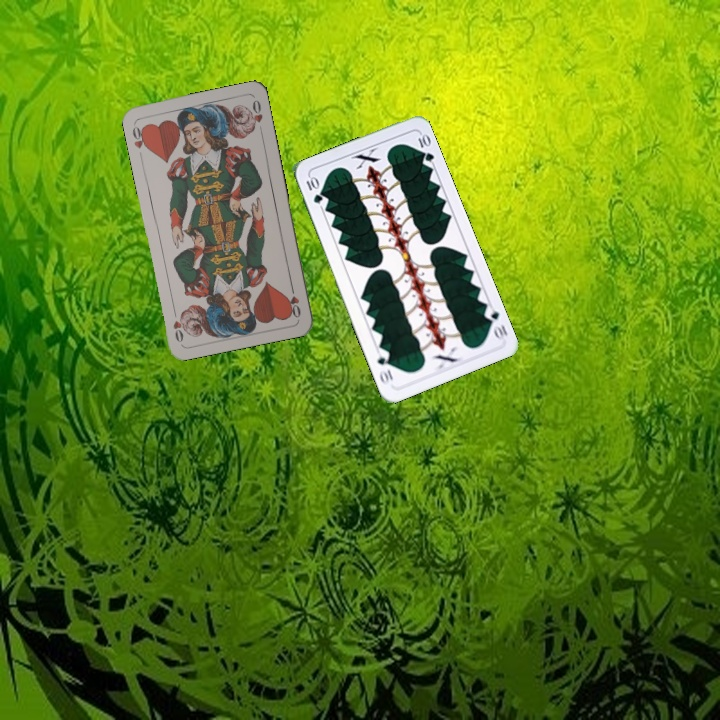G10: (480, 302, 510, 343), (302, 172, 325, 206)
HO: (285, 280, 303, 321), (128, 120, 151, 152)
